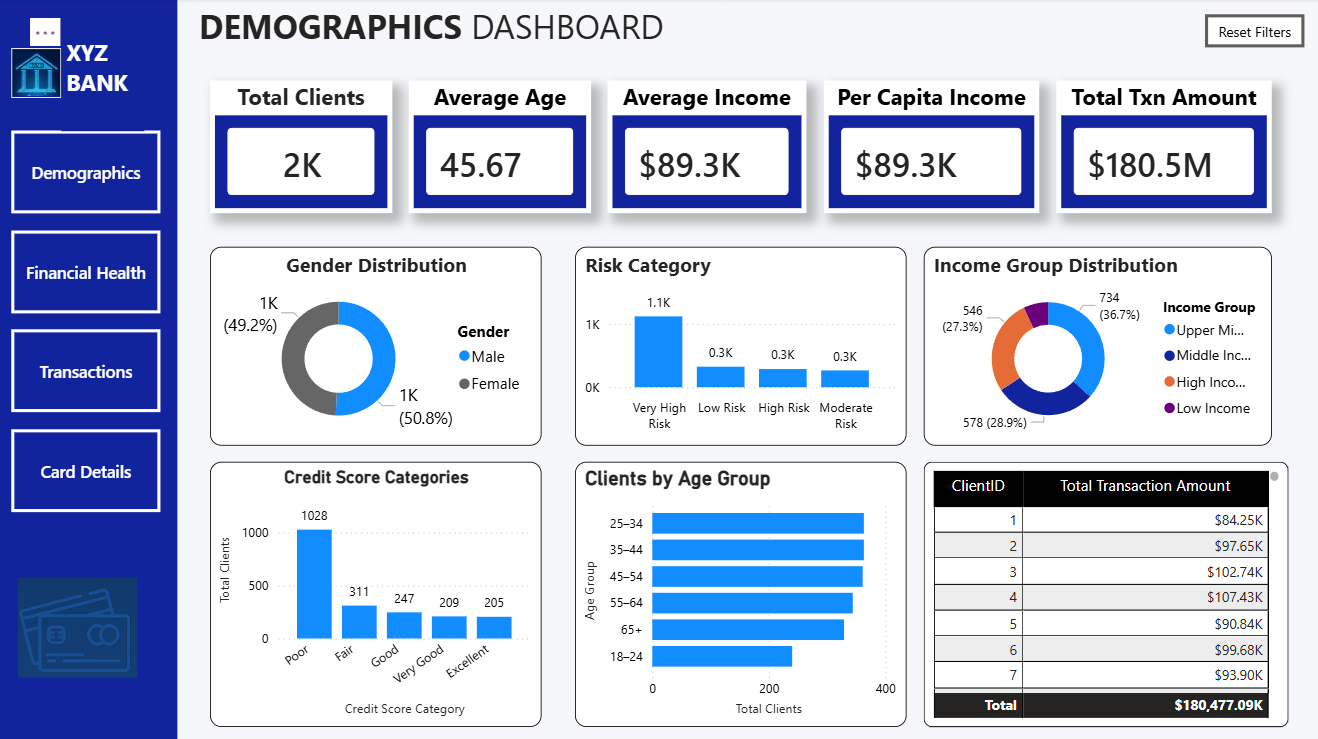

This screenshot's page, from the dashboard's own definition file:
{"tool":"powerbi","page":{"name":"Demographics","canvas":[1280,720],"ordinal":0},"visuals":[{"type":"cardVisual","title":"Total Clients","fields":{"Data":["Fact_Transactions.Total Clients"]},"box":[207.7,79.2,176,128],"z":0},{"type":"cardVisual","title":"Average Age","fields":{"Data":["Fact_Transactions.Average Age"]},"box":[399.7,79.2,176,128],"z":1000},{"type":"cardVisual","title":"Average Income","fields":{"Data":["Fact_Transactions.Average Income"]},"box":[591.7,79.2,192,128],"z":2000},{"type":"cardVisual","title":"Per Capita Income","fields":{"Data":["Fact_Transactions.Per Capita Income"]},"box":[799.7,79.2,208,128],"z":3000},{"type":"donutChart","title":"Gender Distribution","fields":{"Category":["Dim_Client.Gender"],"Y":["Fact_Transactions.Total Clients"]},"box":[208,240,320,192],"z":4000},{"type":"clusteredBarChart","title":"Clients by Age Group","fields":{"Category":["Dim_Client.Age Group"],"Y":["Fact_Transactions.Total Clients"]},"box":[560,448,320,256],"z":5000},{"type":"donutChart","title":"Income Group Distribution","fields":{"Category":["Dim_Client.Income Group"],"Y":["Fact_Transactions.Total Clients"]},"box":[896,240,336,192],"z":6000},{"type":"columnChart","title":"Credit Score Categories","fields":{"Category":["Dim_Client.Credit Score Category"],"Y":["Fact_Transactions.Total Clients"]},"box":[208,448,320,256],"z":7000},{"type":"cardVisual","title":"Total Txn Amount","fields":{"Data":["Fact_Transactions.Total Transaction Amount"]},"box":[1023.7,79.2,208,128],"z":8000},{"type":"columnChart","title":"Risk Category","fields":{"Category":["Fact_Debt.Risk Category"],"Y":["Fact_Transactions.Total Clients"]},"box":[560,240,320,192],"z":9000},{"type":"shape","box":[0,0,176,720],"z":10000},{"type":"actionButton","box":[16,128,144,80],"z":11000},{"type":"actionButton","title":"Financial Health","box":[16,224,144,80],"z":12000},{"type":"actionButton","box":[16,320,144,80],"z":13000},{"type":"actionButton","box":[16,416,144,80],"z":14000},{"type":"tableEx","fields":{"Values":["Dim_Client.ClientID","Fact_Transactions.Total Transaction Amount"]},"box":[896,448,352,256],"z":15000},{"type":"actionButton","box":[1168,16,96,32],"z":16000},{"type":"textbox","box":[192,0,512,64],"z":16001},{"type":"image","box":[16,48,48,48],"z":16002},{"type":"textbox","box":[64,32,80,96],"z":16003},{"type":"image","box":[16,560,128,96],"z":16004}]}

Visuals, with their boxes in screenshot pixels (x1, y1, x2, y2), scaled from the page's 1280x720 canvas onto the 1318x739 screenshot:
"Total Clients" cardVisual: x1=214 y1=81 x2=395 y2=213
"Average Age" cardVisual: x1=412 y1=81 x2=593 y2=213
"Average Income" cardVisual: x1=609 y1=81 x2=807 y2=213
"Per Capita Income" cardVisual: x1=823 y1=81 x2=1038 y2=213
"Gender Distribution" donutChart: x1=214 y1=246 x2=544 y2=443
"Clients by Age Group" clusteredBarChart: x1=577 y1=460 x2=906 y2=723
"Income Group Distribution" donutChart: x1=923 y1=246 x2=1269 y2=443
"Credit Score Categories" columnChart: x1=214 y1=460 x2=544 y2=723
"Total Txn Amount" cardVisual: x1=1054 y1=81 x2=1268 y2=213
"Risk Category" columnChart: x1=577 y1=246 x2=906 y2=443
shape: x1=0 y1=0 x2=181 y2=738
actionButton: x1=16 y1=131 x2=165 y2=213
"Financial Health" actionButton: x1=16 y1=230 x2=165 y2=312
actionButton: x1=16 y1=328 x2=165 y2=411
actionButton: x1=16 y1=427 x2=165 y2=509
tableEx - Dim_Client.ClientID x Fact_Transactions.Total Transaction Amount: x1=923 y1=460 x2=1285 y2=723
actionButton: x1=1203 y1=16 x2=1302 y2=49
textbox: x1=198 y1=0 x2=725 y2=66
image: x1=16 y1=49 x2=66 y2=99
textbox: x1=66 y1=33 x2=148 y2=131
image: x1=16 y1=575 x2=148 y2=673
